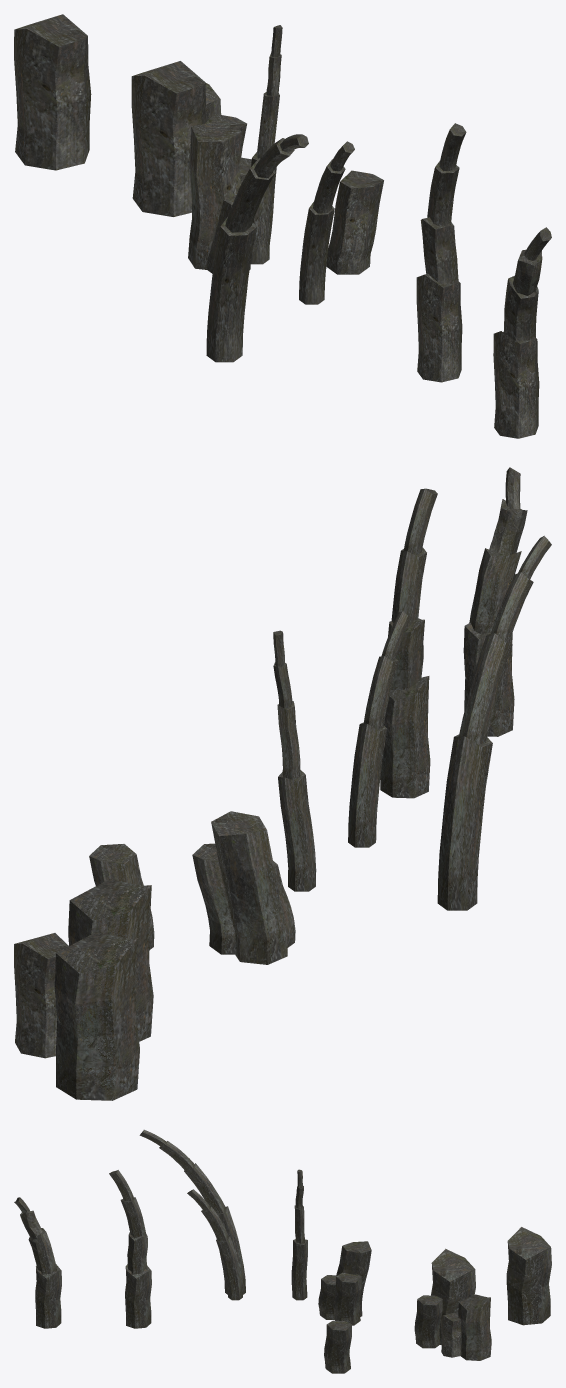
File: Stalactite.fbx
The picture shows the model from 3 angles, top to bottom: view 1: azimuth 30°, elevation 25°; view 2: azimuth 150°, elevation 25°; view 3: azimuth 270°, elevation 25°; orthographic projection. The views are drawn at different scales.
Visible parts, largest first — view 1: Cylinder.027, Cylinder.010, Cylinder.014, Cylinder.021, Cylinder.018, Cylinder.007, Cylinder.026, Cylinder, Cylinder.003, Cylinder.008; view 2: Cylinder.027, Cylinder.021, Cylinder.014, Cylinder.007, Cylinder.018, Cylinder.010, Cylinder, Cylinder.003, Cylinder.024, Cylinder.009, Cylinder.026; view 3: Cylinder.027, Cylinder.014, Cylinder.018, Cylinder.010, Cylinder.021, Cylinder.024, Cylinder, Cylinder.003, Cylinder.026, Cylinder.025, Cylinder.009, Cylinder.007 (+2 smaller).
Boxes of the visible parts, x1,y1,x2,y2 form: Cylinder.027: [14, 14, 91, 170]; Cylinder.010: [131, 61, 206, 216]; Cylinder.014: [416, 123, 466, 382]; Cylinder.021: [206, 134, 308, 362]; Cylinder.018: [493, 227, 551, 438]; Cylinder.007: [188, 123, 241, 269]; Cylinder.026: [326, 170, 383, 274]; Cylinder: [299, 141, 354, 304]; Cylinder.003: [250, 25, 282, 264]; Cylinder.008: [207, 195, 250, 273]; Cylinder.027: [54, 932, 139, 1100]; Cylinder.021: [437, 535, 551, 910]; Cylinder.014: [380, 488, 437, 798]; Cylinder.007: [211, 811, 287, 964]; Cylinder.018: [463, 467, 527, 736]; Cylinder.010: [68, 879, 153, 1041]; Cylinder: [348, 611, 411, 847]; Cylinder.003: [273, 630, 316, 891]; Cylinder.024: [14, 933, 68, 1058]; Cylinder.009: [192, 843, 235, 954]; Cylinder.026: [89, 844, 154, 949]; Cylinder.027: [506, 1227, 551, 1325]; Cylinder.014: [109, 1170, 151, 1328]; Cylinder.018: [14, 1197, 61, 1328]; Cylinder.010: [431, 1248, 475, 1345]; Cylinder.021: [139, 1129, 245, 1294]; Cylinder.024: [458, 1294, 491, 1360]; Cylinder: [187, 1189, 242, 1300]; Cylinder.003: [291, 1169, 307, 1300]; Cylinder.026: [324, 1320, 351, 1373]; Cylinder.025: [414, 1295, 442, 1348]; Cylinder.009: [333, 1272, 361, 1325]; Cylinder.007: [336, 1241, 371, 1316].
Size of the model in its own units: 2312 by 2632 by 7174.
Materials: 1 (1 with a texture image).
